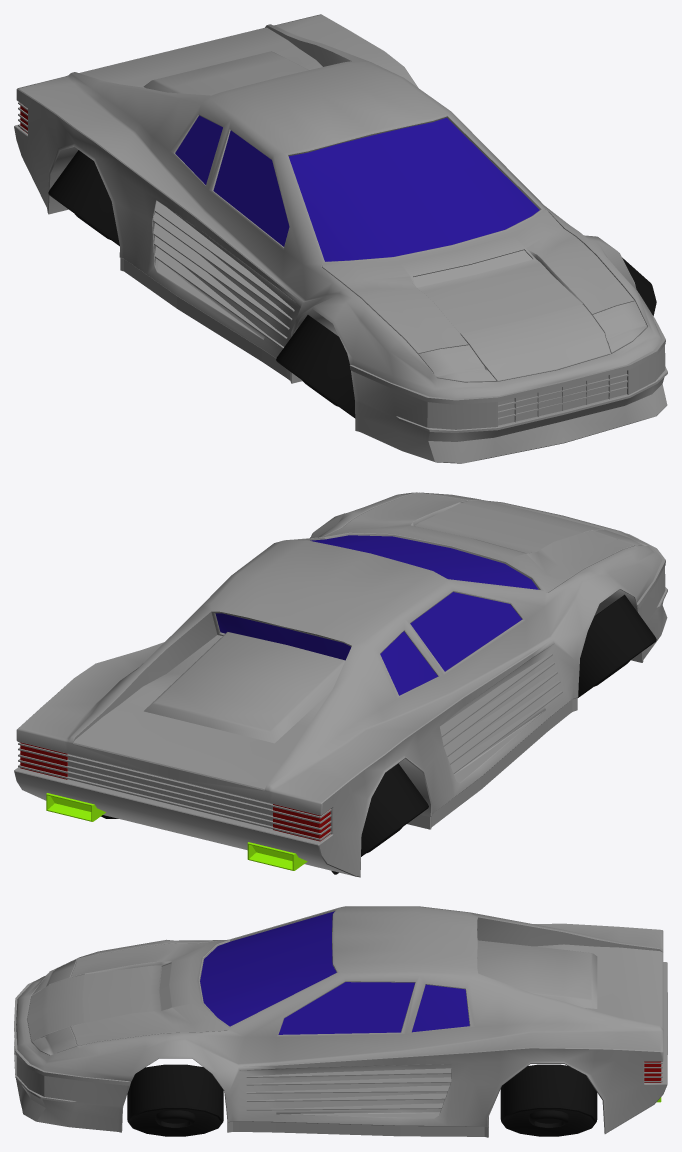
File: bil2.FBX
3 renders of one model, top to bottom at view 1: azimuth 30°, elevation 25°; view 2: azimuth 150°, elevation 25°; view 3: azimuth 270°, elevation 25°, orthographic. The views are drawn at different scales.
Visible parts, largest first — view 1: Kaross; view 2: Kaross; view 3: Kaross.
Boxes of the visible parts, x1,y1,x2,y2 form: Kaross: (14,14,667,463); Kaross: (14,492,667,877); Kaross: (14,906,667,1137).
Size of the model in its own units: 4013 by 2052 by 7726.
